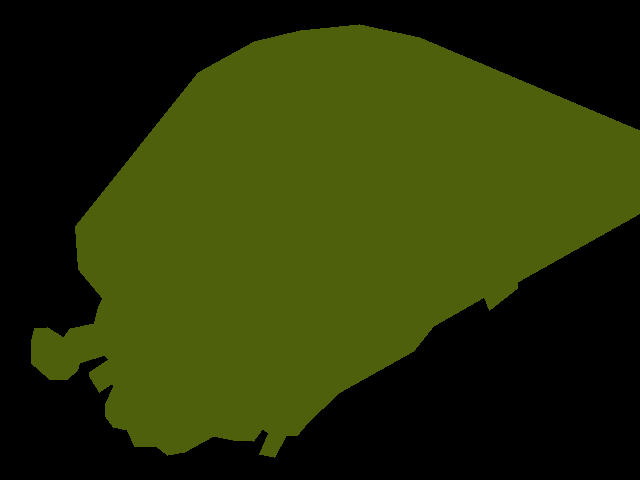Train: (31, 24, 640, 457)
